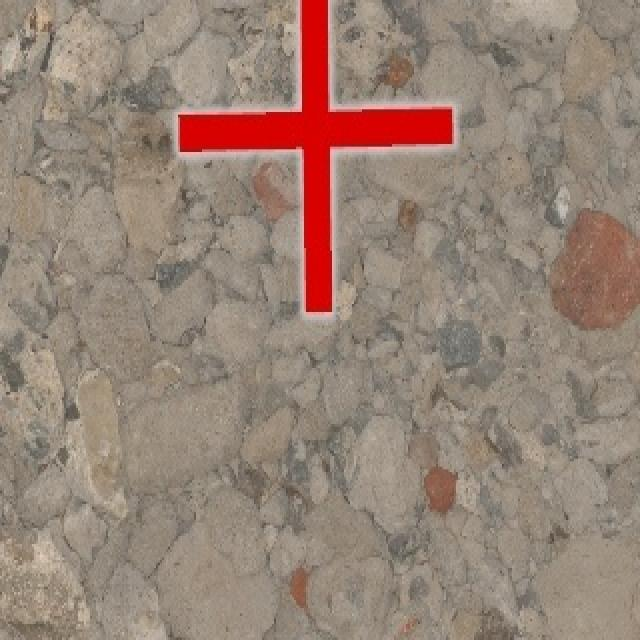x_marker: (177, 0, 453, 315)
